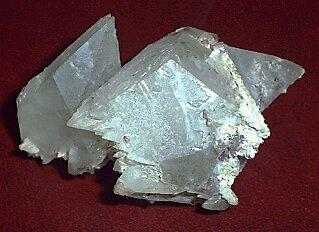calcite: (17, 15, 305, 210)
